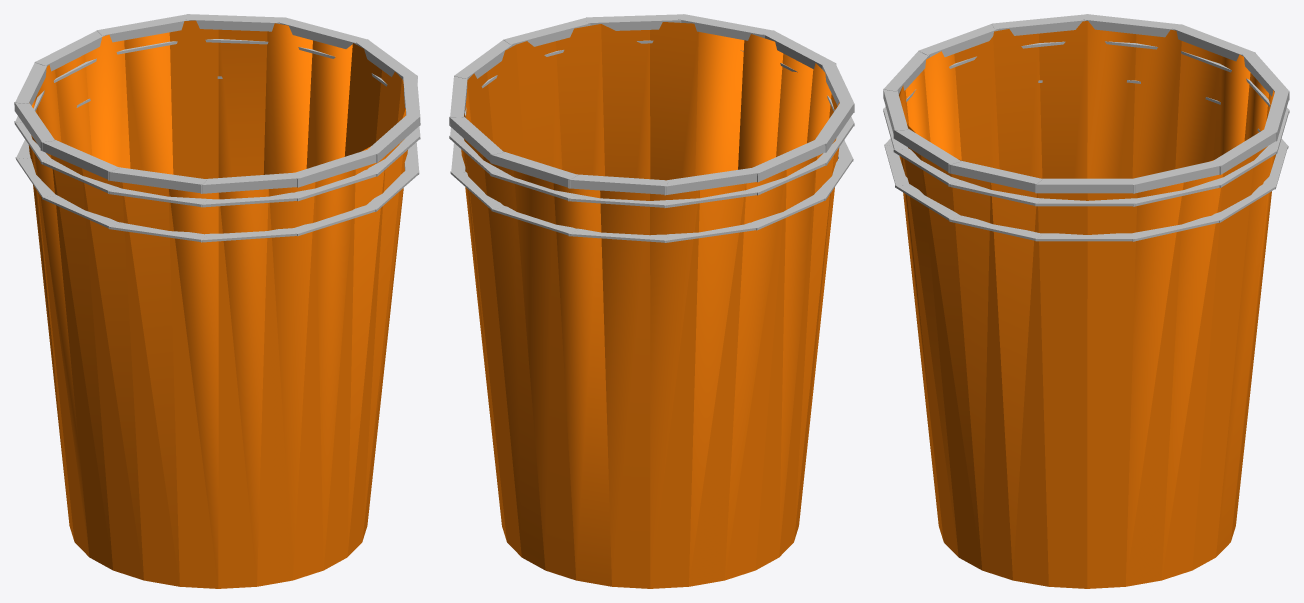
File: original-5.obj
3 views of the same model, side by side, from view 1: azimuth 30°, elevation 25°; view 2: azimuth 150°, elevation 25°; view 3: azimuth 270°, elevation 25° (orthographic).
Parts seen in each view (by area): view 1: Group5/mesh13/mesh13-geometry#mesh13-geometry.023, Group5/mesh13/mesh13-geometry#mesh13-geometry.022, Group5/mesh13/mesh13-geometry#mesh13-geometry.021, Group5/mesh13/mesh13-geometry#mesh13-geometry.024, Group5/mesh13/mesh13-geometry#mesh13-geometry.025, Group5/mesh13/mesh13-geometry#mesh13-geometry.020, Group5/mesh13/mesh13-geometry#mesh13-geometry.019, Group5/mesh13/mesh13-geometry#mesh13-geometry.026, Group5/mesh13/mesh13-geometry#mesh13-geometry.011, Group5/mesh13/mesh13-geometry#mesh13-geometry.010, Group5/mesh13/mesh13-geometry#mesh13-geometry.008, Group5/mesh13/mesh13-geometry#mesh13-geometry.027 (+34 smaller); view 2: Group5/mesh13/mesh13-geometry#mesh13-geometry.014, Group5/mesh13/mesh13-geometry#mesh13-geometry.015, Group5/mesh13/mesh13-geometry#mesh13-geometry.016, Group5/mesh13/mesh13-geometry#mesh13-geometry.013, Group5/mesh13/mesh13-geometry#mesh13-geometry.012, Group5/mesh13/mesh13-geometry#mesh13-geometry.017, Group5/mesh13/mesh13-geometry#mesh13-geometry.018, Group5/mesh13/mesh13-geometry#mesh13-geometry.011, Group5/mesh13/mesh13-geometry#mesh13-geometry.026, Group5/mesh13/mesh13-geometry#mesh13-geometry.027, Group5/mesh13/mesh13-geometry#mesh13-geometry.028, Group5/mesh13/mesh13-geometry#mesh13-geometry.025 (+33 smaller); view 3: Group5/mesh13/mesh13-geometry#mesh13-geometry.005, Group5/mesh13/mesh13-geometry#mesh13-geometry.007, Group5/mesh13/mesh13-geometry#mesh13-geometry.009, Group5/mesh13/mesh13-geometry#mesh13-geometry.029, Group5/mesh13/mesh13-geometry#mesh13-geometry.008, Group5/mesh13/mesh13-geometry#mesh13-geometry.028, Group5/mesh13/mesh13-geometry#mesh13-geometry.010, Group5/mesh13/mesh13-geometry#mesh13-geometry.027, Group5/mesh13/mesh13-geometry#mesh13-geometry.019, Group5/mesh13/mesh13-geometry#mesh13-geometry.018, Group5/mesh13/mesh13-geometry#mesh13-geometry.020, Group5/mesh13/mesh13-geometry#mesh13-geometry.017 (+33 smaller).
Part boxes in pixels (x1=…): Group5/mesh13/mesh13-geometry#mesh13-geometry.023: x1=218, y1=189, x2=268, y2=588; Group5/mesh13/mesh13-geometry#mesh13-geometry.022: x1=168, y1=189, x2=218, y2=588; Group5/mesh13/mesh13-geometry#mesh13-geometry.021: x1=122, y1=182, x2=179, y2=586; Group5/mesh13/mesh13-geometry#mesh13-geometry.024: x1=257, y1=172, x2=315, y2=586; Group5/mesh13/mesh13-geometry#mesh13-geometry.025: x1=293, y1=169, x2=355, y2=580; Group5/mesh13/mesh13-geometry#mesh13-geometry.020: x1=81, y1=168, x2=143, y2=580; Group5/mesh13/mesh13-geometry#mesh13-geometry.019: x1=51, y1=155, x2=112, y2=570; Group5/mesh13/mesh13-geometry#mesh13-geometry.026: x1=323, y1=146, x2=385, y2=570; Group5/mesh13/mesh13-geometry#mesh13-geometry.011: x1=169, y1=20, x2=218, y2=178; Group5/mesh13/mesh13-geometry#mesh13-geometry.010: x1=218, y1=29, x2=267, y2=177; Group5/mesh13/mesh13-geometry#mesh13-geometry.008: x1=263, y1=23, x2=312, y2=174; Group5/mesh13/mesh13-geometry#mesh13-geometry.027: x1=347, y1=139, x2=404, y2=556; Group5/mesh13/mesh13-geometry#mesh13-geometry.014: x1=600, y1=190, x2=650, y2=588; Group5/mesh13/mesh13-geometry#mesh13-geometry.015: x1=650, y1=190, x2=699, y2=588; Group5/mesh13/mesh13-geometry#mesh13-geometry.016: x1=689, y1=183, x2=746, y2=586; Group5/mesh13/mesh13-geometry#mesh13-geometry.013: x1=553, y1=174, x2=611, y2=586; Group5/mesh13/mesh13-geometry#mesh13-geometry.012: x1=513, y1=170, x2=576, y2=580; Group5/mesh13/mesh13-geometry#mesh13-geometry.017: x1=724, y1=170, x2=786, y2=580; Group5/mesh13/mesh13-geometry#mesh13-geometry.018: x1=755, y1=156, x2=816, y2=569; Group5/mesh13/mesh13-geometry#mesh13-geometry.011: x1=483, y1=150, x2=545, y2=569; Group5/mesh13/mesh13-geometry#mesh13-geometry.026: x1=650, y1=22, x2=698, y2=180; Group5/mesh13/mesh13-geometry#mesh13-geometry.027: x1=601, y1=24, x2=650, y2=179; Group5/mesh13/mesh13-geometry#mesh13-geometry.028: x1=556, y1=24, x2=604, y2=176; Group5/mesh13/mesh13-geometry#mesh13-geometry.025: x1=695, y1=32, x2=744, y2=175; Group5/mesh13/mesh13-geometry#mesh13-geometry.005: x1=1037, y1=193, x2=1087, y2=588; Group5/mesh13/mesh13-geometry#mesh13-geometry.007: x1=1087, y1=193, x2=1137, y2=588; Group5/mesh13/mesh13-geometry#mesh13-geometry.009: x1=1125, y1=182, x2=1183, y2=586; Group5/mesh13/mesh13-geometry#mesh13-geometry.029: x1=991, y1=182, x2=1048, y2=586; Group5/mesh13/mesh13-geometry#mesh13-geometry.008: x1=1161, y1=160, x2=1223, y2=580; Group5/mesh13/mesh13-geometry#mesh13-geometry.028: x1=951, y1=159, x2=1012, y2=580; Group5/mesh13/mesh13-geometry#mesh13-geometry.010: x1=1192, y1=154, x2=1254, y2=570; Group5/mesh13/mesh13-geometry#mesh13-geometry.027: x1=920, y1=155, x2=982, y2=570; Group5/mesh13/mesh13-geometry#mesh13-geometry.019: x1=1038, y1=21, x2=1087, y2=178; Group5/mesh13/mesh13-geometry#mesh13-geometry.018: x1=1087, y1=21, x2=1136, y2=178; Group5/mesh13/mesh13-geometry#mesh13-geometry.020: x1=993, y1=29, x2=1042, y2=178; Group5/mesh13/mesh13-geometry#mesh13-geometry.017: x1=1132, y1=30, x2=1181, y2=178.
Bounding box in the file's own units: 1.16 × 1.35 × 1.17.
